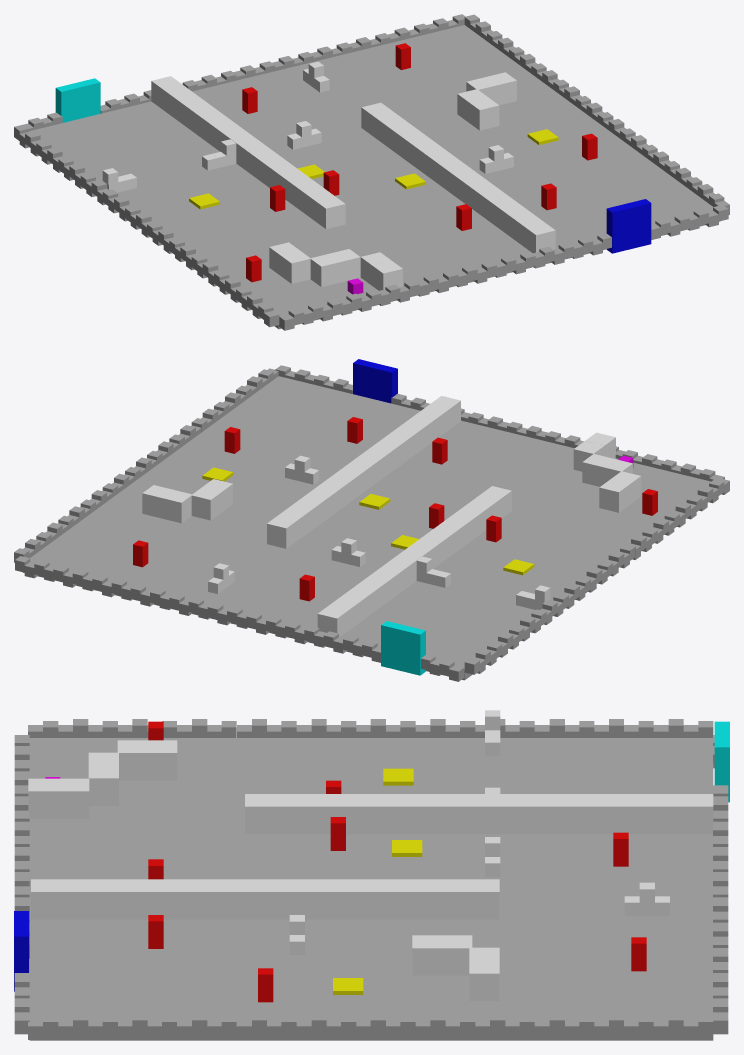
Rendered from level1_b9_45.fbx.
3 views of the same model, one above another, from view 1: azimuth 30°, elevation 25°; view 2: azimuth 150°, elevation 25°; view 3: azimuth 270°, elevation 25° (orthographic). The views are drawn at different scales.
Visible parts, largest first — view 1: pCube1, pCube261, pCube262, pCube227, pCube202, pCube231, pCube228, pCube213, pCube258, pCube230, pCube224; view 2: pCube1, pCube262, pCube261, pCube229, pCube221, pCube226, pCube225, pCube190, pCube224, pCube230, pCube259; view 3: pCube1, pCube259, pCube198, pCube215, pCube224, pCube194, pCube195, pCube214, pCube206, pCube258, pCube218, pCube190 (+37 smaller).
Part boxes in pixels (left/top/right/bottom): pCube1: left=29, top=25, right=719, bottom=329; pCube261: left=606, top=199, right=651, bottom=253; pCube262: left=55, top=78, right=100, bottom=122; pCube227: left=468, top=97, right=499, bottom=130; pCube202: left=315, top=195, right=345, bottom=228; pCube231: left=310, top=253, right=340, bottom=286; pCube228: left=280, top=250, right=310, bottom=283; pCube213: left=525, top=222, right=555, bottom=253; pCube258: left=372, top=260, right=402, bottom=290; pCube230: left=330, top=249, right=360, bottom=282; pCube224: left=486, top=72, right=516, bottom=105; pCube1: left=23, top=376, right=710, bottom=680; pCube262: left=381, top=621, right=425, bottom=675; pCube261: left=353, top=359, right=397, bottom=403; pCube229: left=599, top=479, right=630, bottom=512; pCube221: left=267, top=515, right=297, bottom=548; pCube226: left=191, top=487, right=221, bottom=520; pCube225: left=162, top=490, right=191, bottom=523; pCube190: left=317, top=605, right=348, bottom=636; pCube224: left=142, top=485, right=172, bottom=518; pCube230: left=582, top=454, right=612, bottom=486; pCube259: left=573, top=441, right=604, bottom=471; pCube1: left=29, top=738, right=713, bottom=1040; pCube259: left=58, top=778, right=89, bottom=818; pCube198: left=361, top=794, right=392, bottom=834; pCube215: left=351, top=879, right=382, bottom=919; pCube224: left=469, top=960, right=499, bottom=1000; pCube194: left=477, top=794, right=507, bottom=834; pCube195: left=507, top=794, right=537, bottom=834; pCube214: left=322, top=879, right=352, bottom=919; pCube206: left=89, top=879, right=119, bottom=919; pCube258: left=28, top=778, right=58, bottom=818; pCube218: left=410, top=879, right=440, bottom=919; pCube190: left=683, top=794, right=713, bottom=834.
Size of the model in its own units: 46.93 by 4.7 by 47.14.
